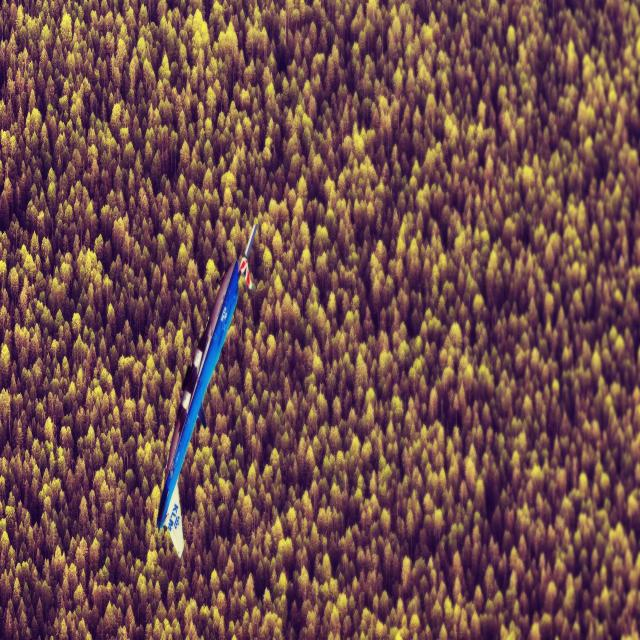airplane: (155, 222, 258, 558)
